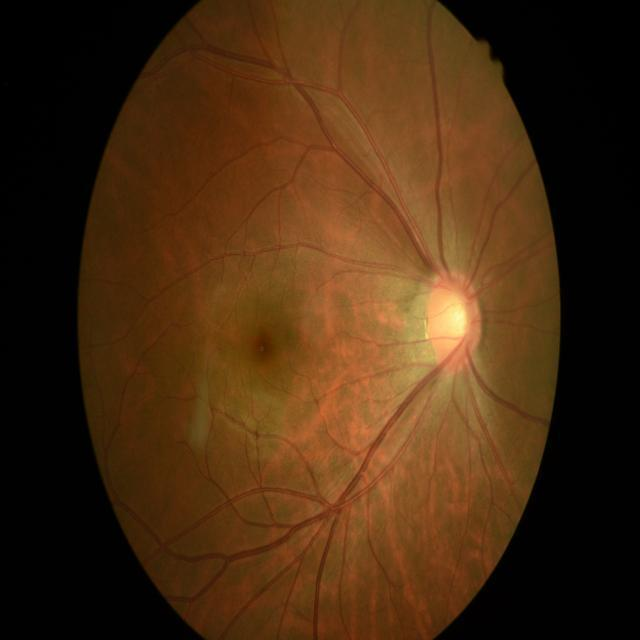cup: (440, 295, 470, 346)
disk: (427, 271, 483, 374)
